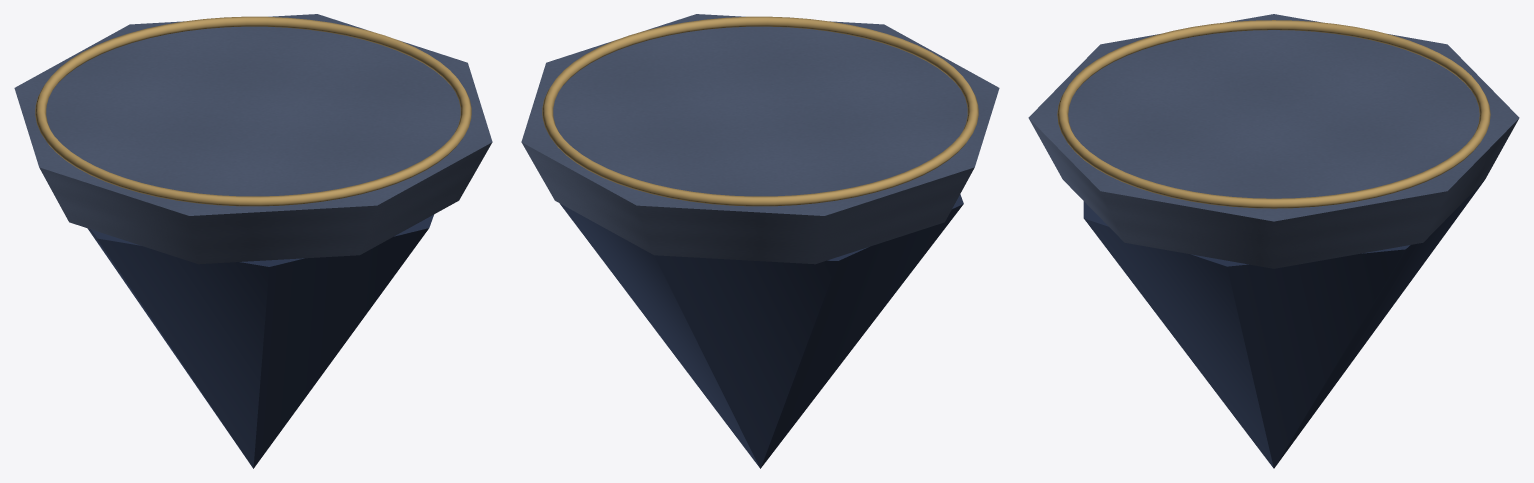
File: platform-small.glb
The picture shows the model from 3 angles, left to right: view 1: azimuth 30°, elevation 25°; view 2: azimuth 150°, elevation 25°; view 3: azimuth 270°, elevation 25°; orthographic projection.
Parts seen in each view (by area): view 1: platform-small_stone, platform-small_dark, platform-small_gold; view 2: platform-small_stone, platform-small_dark, platform-small_gold; view 3: platform-small_stone, platform-small_dark, platform-small_gold.
Part boxes in pixels (x1,y1,x2,y2): platform-small_stone: (14, 14, 492, 264); platform-small_dark: (87, 214, 433, 468); platform-small_gold: (35, 16, 471, 206); platform-small_stone: (521, 14, 999, 264); platform-small_dark: (560, 194, 963, 468); platform-small_gold: (542, 16, 978, 206); platform-small_stone: (1028, 14, 1519, 268); platform-small_dark: (1083, 180, 1484, 468); platform-small_gold: (1057, 20, 1490, 208).
Size of the model in its own units: 1.8 by 1.45 by 1.8.
Materials: 3 (1 with a texture image).
